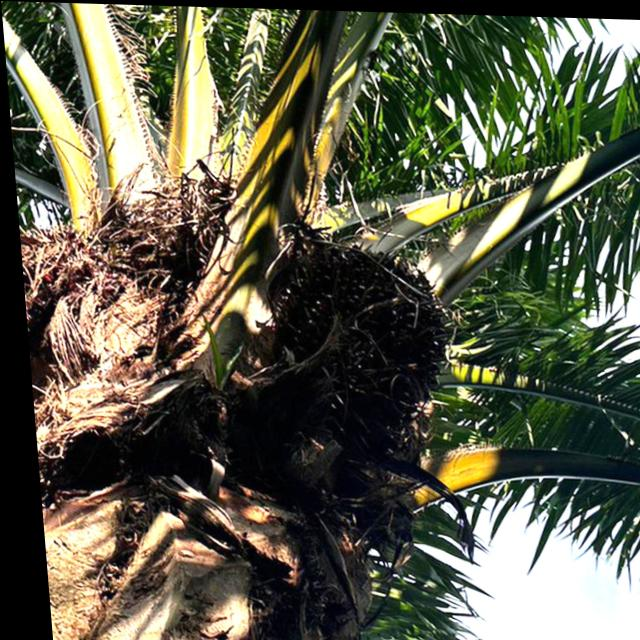ripe: (252, 224, 466, 428)
